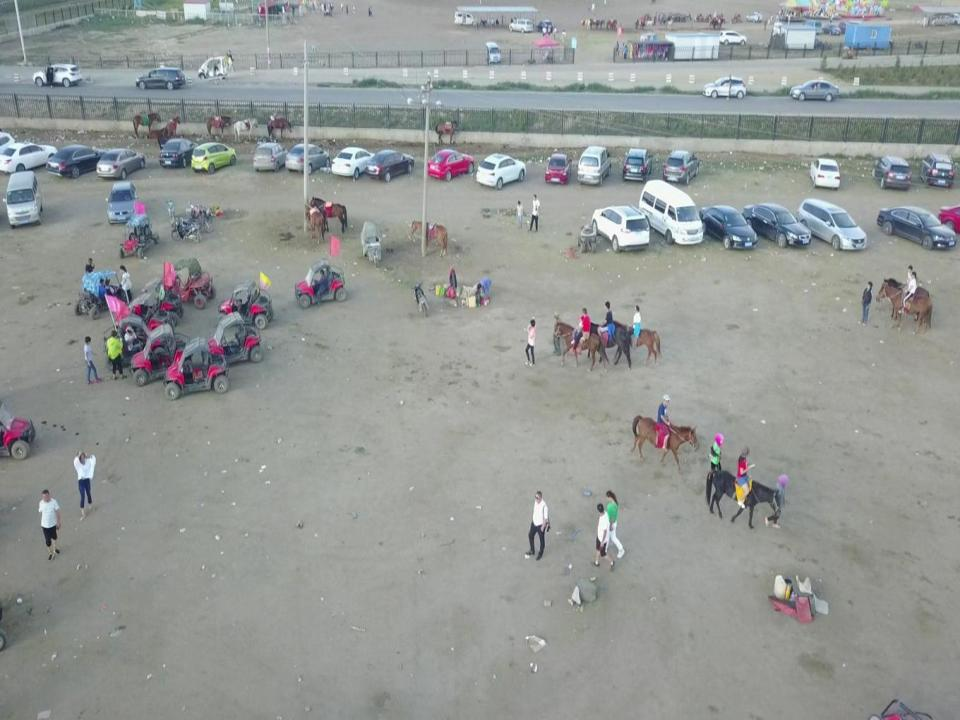car: (875, 206, 957, 250), (741, 202, 811, 250), (592, 205, 650, 252), (700, 206, 758, 251), (46, 146, 109, 178), (0, 140, 56, 176), (476, 154, 526, 190), (330, 146, 376, 182), (426, 148, 474, 180), (364, 150, 415, 180), (96, 148, 146, 178), (285, 142, 330, 175), (107, 182, 139, 228), (872, 155, 911, 192), (662, 150, 700, 186), (918, 154, 954, 190), (190, 143, 236, 171), (32, 63, 83, 87), (158, 138, 198, 168), (253, 142, 291, 171), (789, 80, 839, 102), (808, 157, 840, 189), (702, 76, 746, 99), (545, 152, 572, 184), (719, 29, 746, 44), (837, 22, 856, 36), (821, 24, 841, 36)
van: (639, 180, 703, 246), (796, 199, 866, 251), (2, 170, 42, 228), (577, 146, 612, 185), (136, 66, 186, 89), (622, 146, 653, 182), (486, 41, 501, 63), (802, 21, 822, 34)
